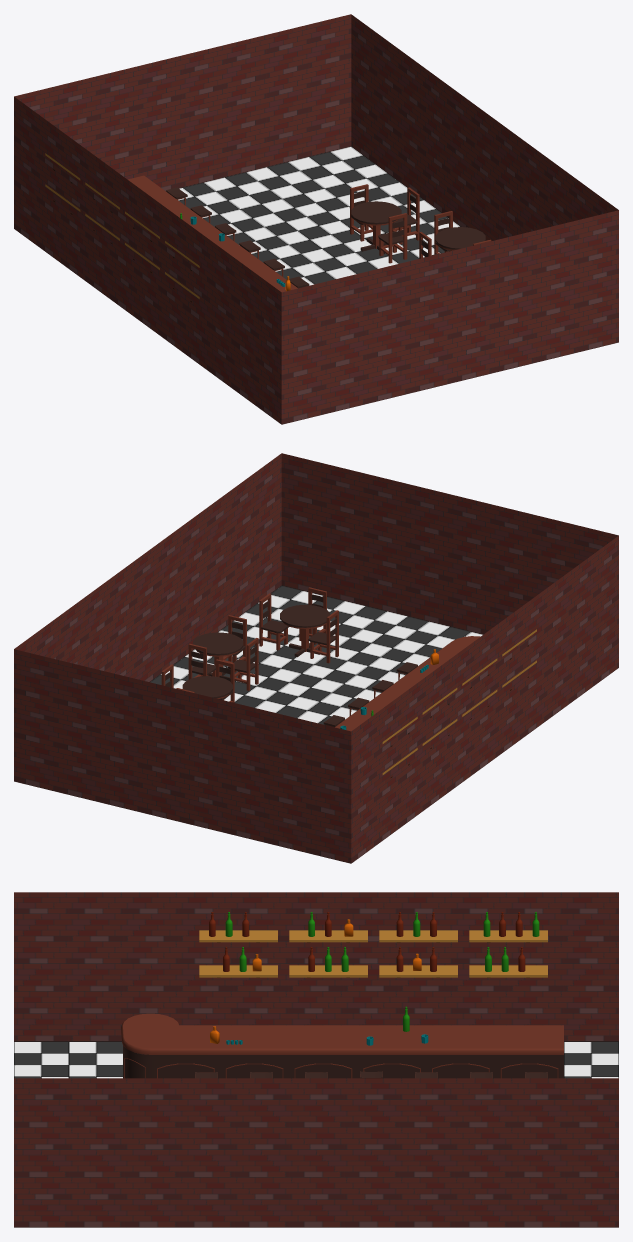
Rendered from thewholescene.FBX.
3 views of the same model, one above another, from view 1: azimuth 30°, elevation 25°; view 2: azimuth 150°, elevation 25°; view 3: azimuth 270°, elevation 25° (orthographic). The views are drawn at different scales.
Parts seen in each view (by area): view 1: Object001, floor039, Cylinder001, small_table002, chair, small_table001, chair001, chair002; view 2: Object001, floor039, Cylinder001, small_table, small_table001, chair008, chair006, small_table002, chair004, chair005, chair003; view 3: Object001, Cylinder001, floor039, shelf, shelf012, shelf010, shelf009, shelf014, shelf015, shelf013, shelf011.
Boxes of the visible parts, x1,y1,x2,y2 form: Object001: (14, 14, 618, 424); floor039: (178, 146, 460, 285); Cylinder001: (128, 175, 297, 292); small_table002: (351, 201, 401, 253); chair: (378, 213, 407, 263); small_table001: (435, 227, 485, 250); chair001: (392, 187, 419, 244); chair002: (350, 184, 372, 241); Object001: (14, 453, 618, 863); floor039: (150, 585, 482, 724); Cylinder001: (335, 636, 480, 731); small_table: (280, 604, 330, 657); small_table001: (193, 632, 243, 677); chair008: (259, 593, 289, 650); chair006: (308, 610, 338, 663); small_table002: (182, 676, 232, 698); chair004: (228, 638, 258, 690); chair005: (188, 643, 215, 679); chair003: (222, 615, 246, 672); Object001: (14, 892, 618, 1227); Cylinder001: (121, 1013, 563, 1078); floor039: (14, 1041, 618, 1078); shelf: (199, 930, 277, 942); shelf012: (289, 965, 367, 977); shelf010: (379, 930, 457, 942); shelf009: (289, 930, 367, 942); shelf014: (469, 965, 547, 977); shelf015: (199, 965, 277, 977); shelf013: (379, 965, 457, 977); shelf011: (469, 930, 547, 942).
Bounding box in the file's own units: 160 × 60 × 220.
